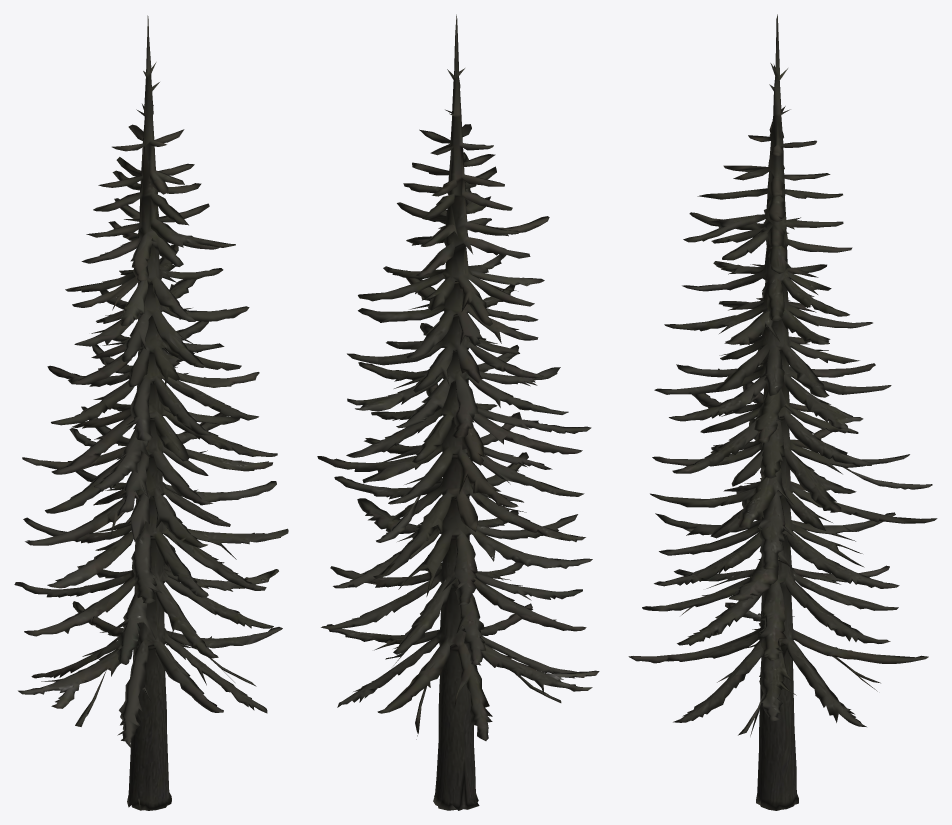
Rendered from fir1.opt.glb.
3 views of the same model, side by side, from view 1: azimuth 30°, elevation 25°; view 2: azimuth 150°, elevation 25°; view 3: azimuth 270°, elevation 25° (orthographic).
Parts seen in each view (by area): view 1: node_0; view 2: node_0; view 3: node_0.
Boxes of the visible parts, x1,y1,x2,y2 form: node_0: (14,15,288,810); node_0: (317,14,599,810); node_0: (628,14,937,810).
Size of the model in its own units: 0.4155 by 1.19 by 0.4241.
1 material, 1 textured.
